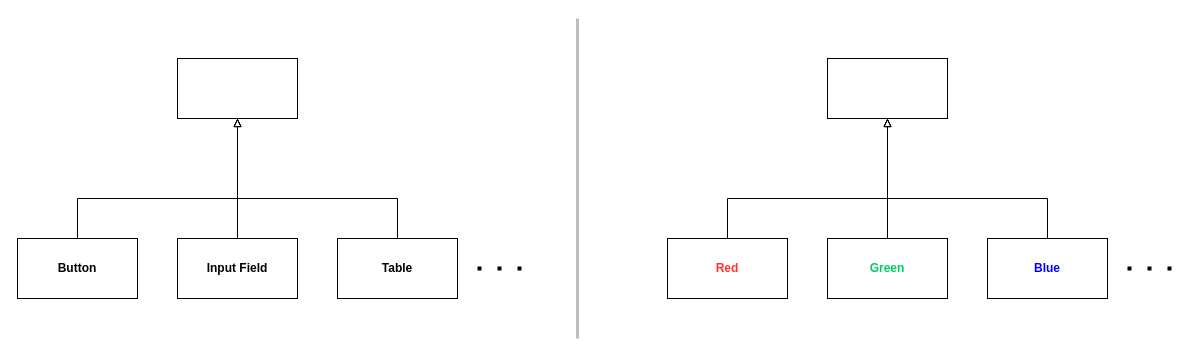
The diagram is 1198 pixels wide and 358 high, and some of its shapes have lost their labels. Here are the shapes that lost their labels. From the top down, the box of each, then its label:
(176, 58, 298, 118): UI Element
(826, 58, 948, 118): Color Schema
